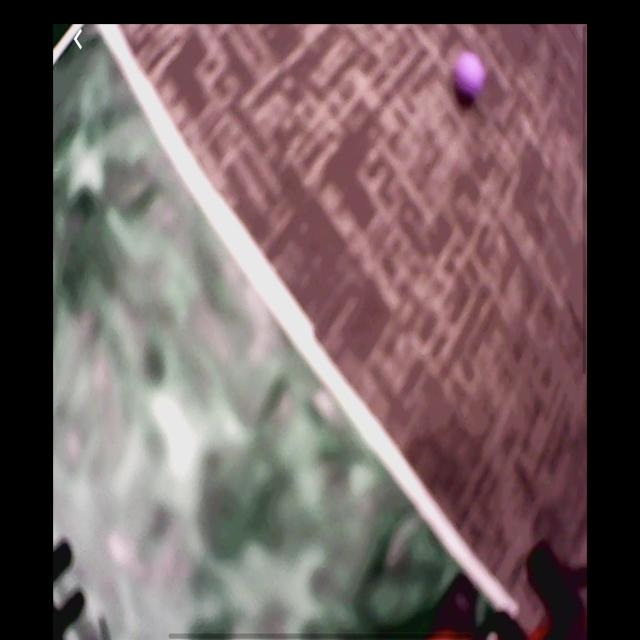ball: (453, 53, 488, 107)
